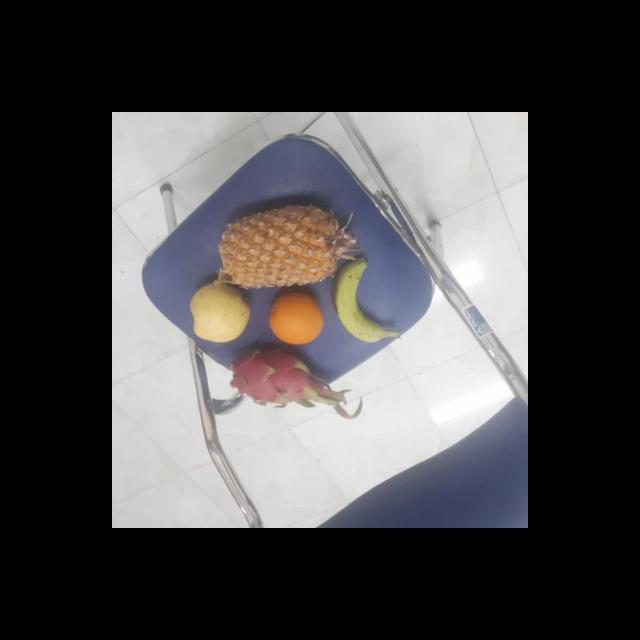banana: (332, 257, 388, 346)
orange: (266, 288, 328, 346)
pear: (186, 282, 254, 344)
pineapple: (224, 204, 346, 286)
pitaya: (232, 344, 324, 406)
